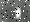person: (16, 8, 22, 20)
